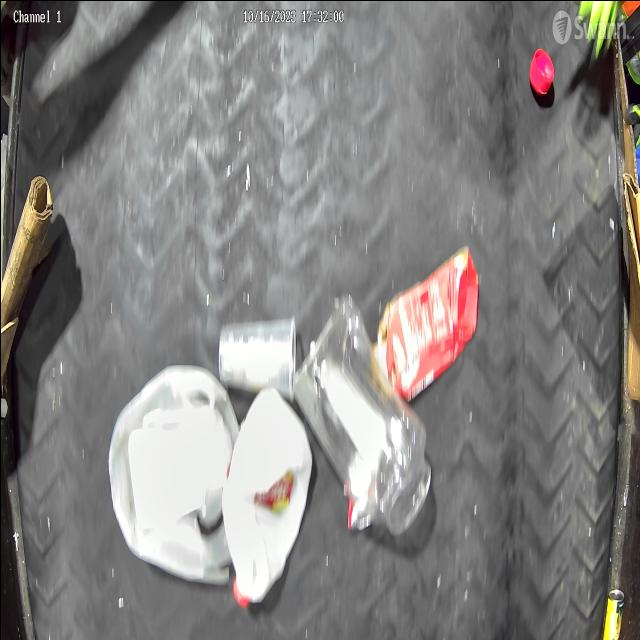can: (218, 313, 298, 413)
milk_jug: (108, 363, 236, 585), (218, 382, 312, 612)
non_white_jug: (370, 244, 482, 396)
plastic_bottle: (295, 282, 431, 538)
